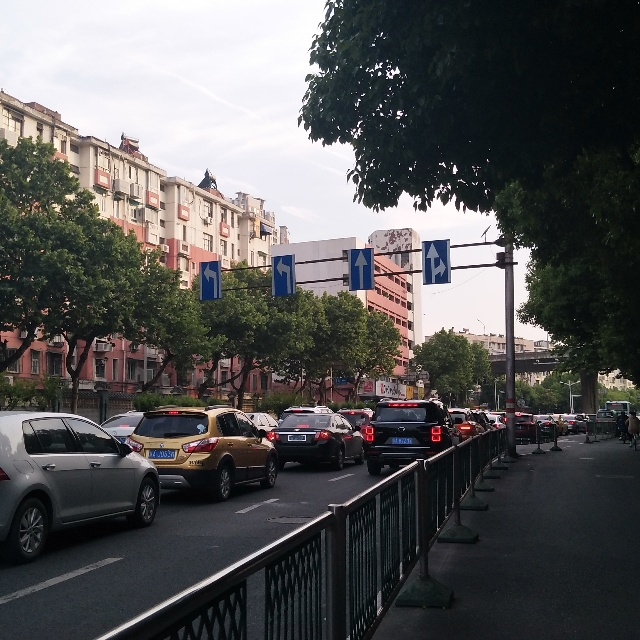left: (271, 254, 298, 299), (198, 259, 224, 303)
straight: (347, 247, 380, 294)
